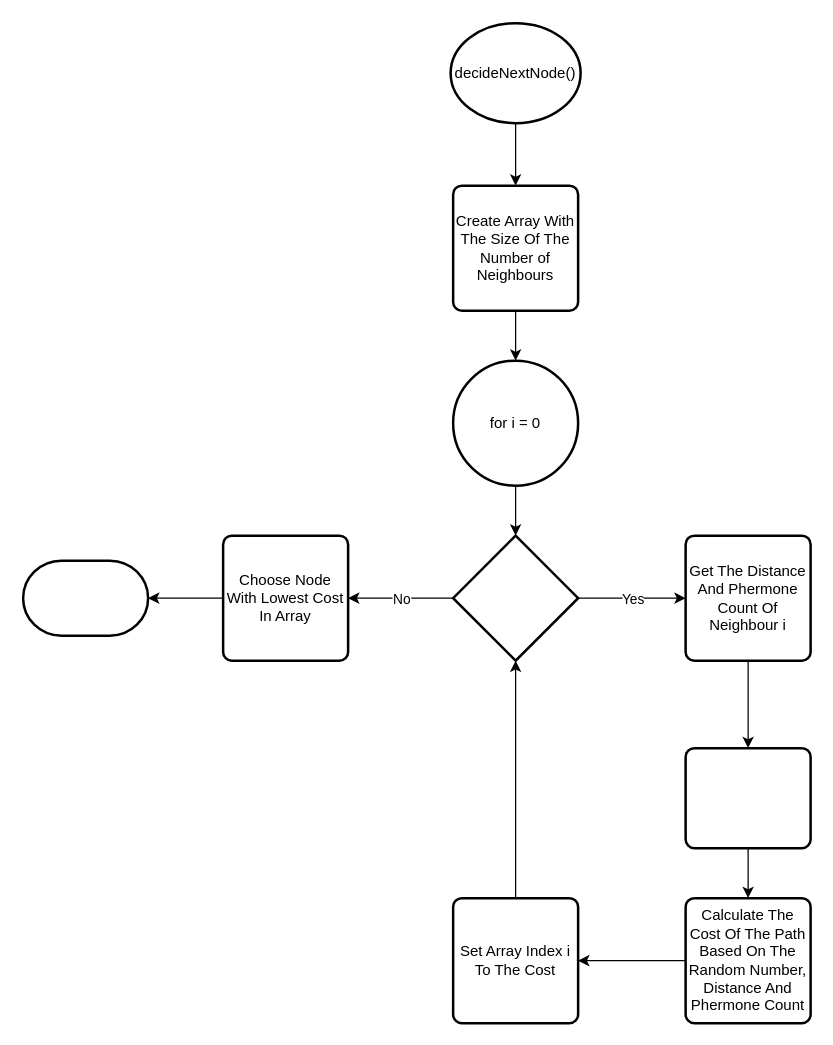
This 833x1045 diagram has some shape labels left out. The shapes that lost their labels are listed below. From the top down, each one's box as (x1, y1, x2, y2) in pixels, then its label:
(21, 559, 149, 636): Return Lowest Cost Node
(451, 534, 579, 661): i < array size
(684, 746, 811, 849): Generate A Random Number
